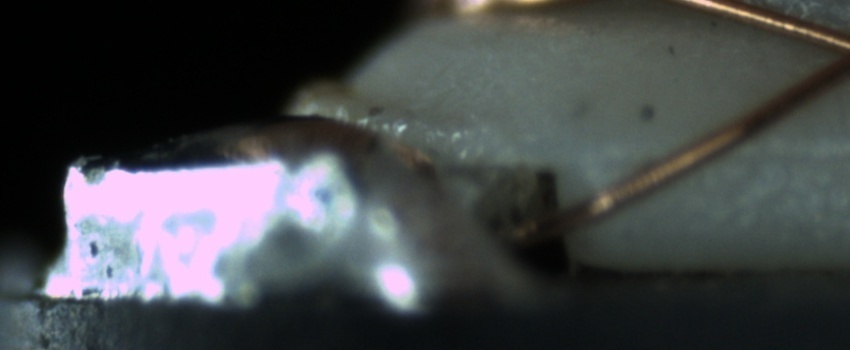CL: (805, 15, 850, 85)
DL: (692, 122, 848, 184)
